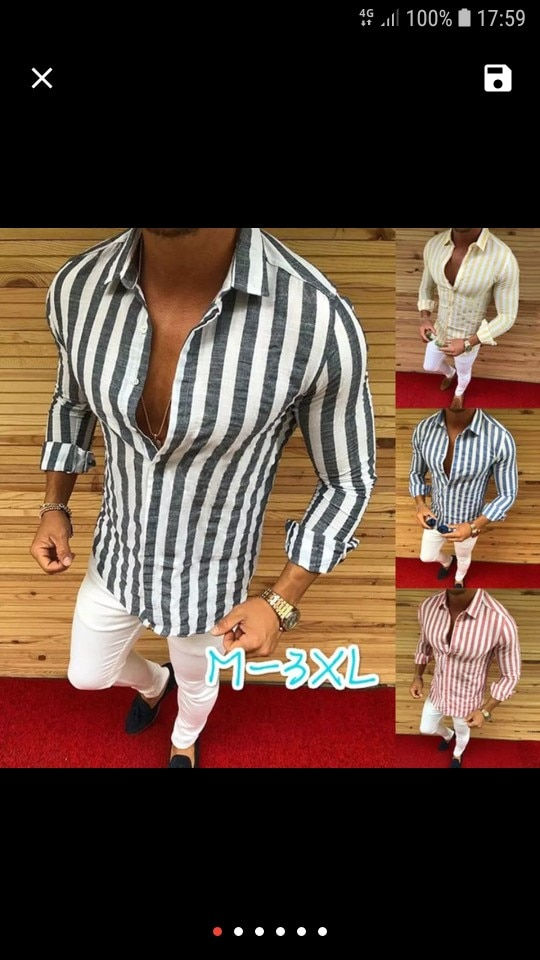shirts: (32, 233, 362, 609), (413, 590, 517, 709), (405, 407, 504, 528), (419, 229, 518, 346)
